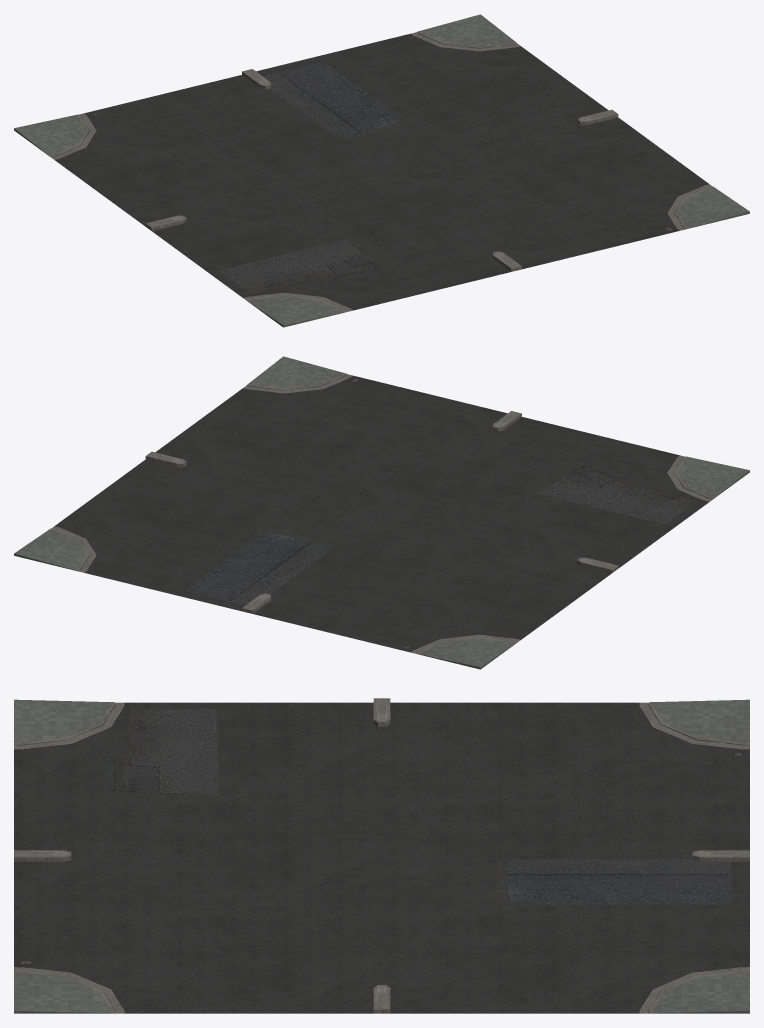
Rendered from jctlowRoadCross22mA_a.fbx.
The picture shows the model from 3 angles, top to bottom: view 1: azimuth 30°, elevation 25°; view 2: azimuth 150°, elevation 25°; view 3: azimuth 270°, elevation 25°; orthographic projection. The views are drawn at different scales.
Visible parts, largest first — view 1: jctlowRoadCross22mA_a; view 2: jctlowRoadCross22mA_a; view 3: jctlowRoadCross22mA_a.
Boxes of the visible parts, x1,y1,x2,y2 form: jctlowRoadCross22mA_a: (14, 14, 749, 327); jctlowRoadCross22mA_a: (14, 356, 749, 669); jctlowRoadCross22mA_a: (14, 698, 749, 1013).
Bounding box in the file's own units: 2200 × 15 × 2200.
4 materials, 4 textured.
